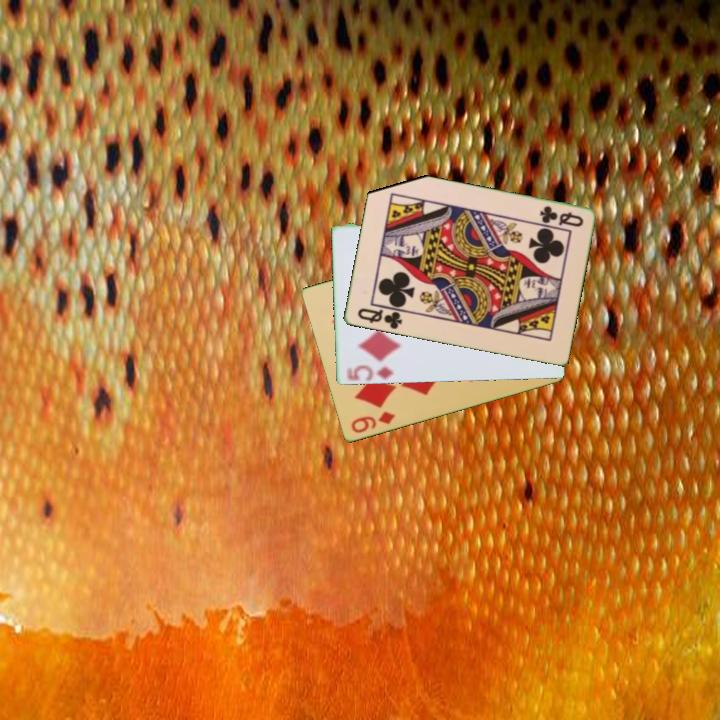5d: (342, 362, 396, 383)
9d: (347, 408, 398, 436)
Qc: (353, 305, 405, 332), (536, 202, 586, 230)
